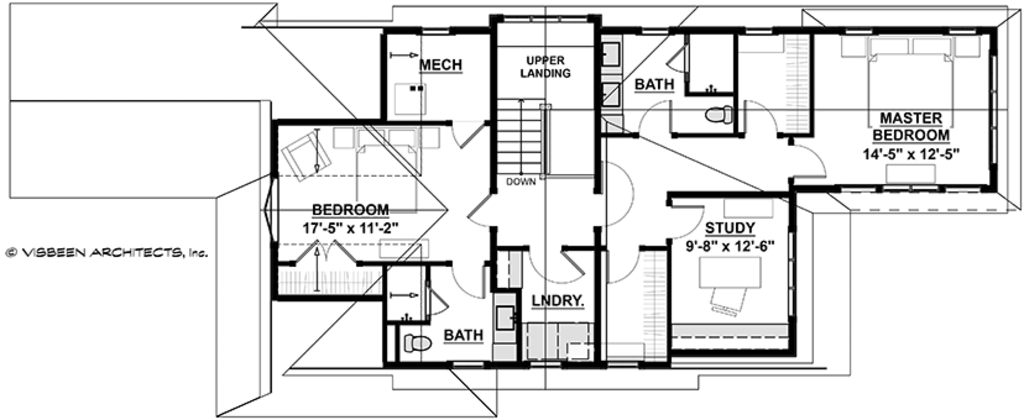bed: (863, 32, 956, 131), (349, 128, 420, 217)
door: (529, 246, 585, 285), (297, 238, 361, 268), (467, 188, 506, 233), (739, 95, 780, 136), (789, 138, 826, 181), (604, 245, 643, 285), (638, 100, 678, 138), (451, 259, 487, 299), (667, 205, 705, 241), (448, 119, 484, 152), (662, 46, 693, 74)
large_sink: (389, 327, 439, 361), (702, 101, 751, 134)
small_sink: (601, 33, 632, 116), (494, 298, 524, 342)
small_sofa: (279, 135, 336, 184)
stairs: (491, 92, 555, 185)
window: (503, 8, 587, 21), (638, 26, 676, 38), (452, 356, 486, 367), (608, 360, 638, 371), (745, 22, 770, 31)
